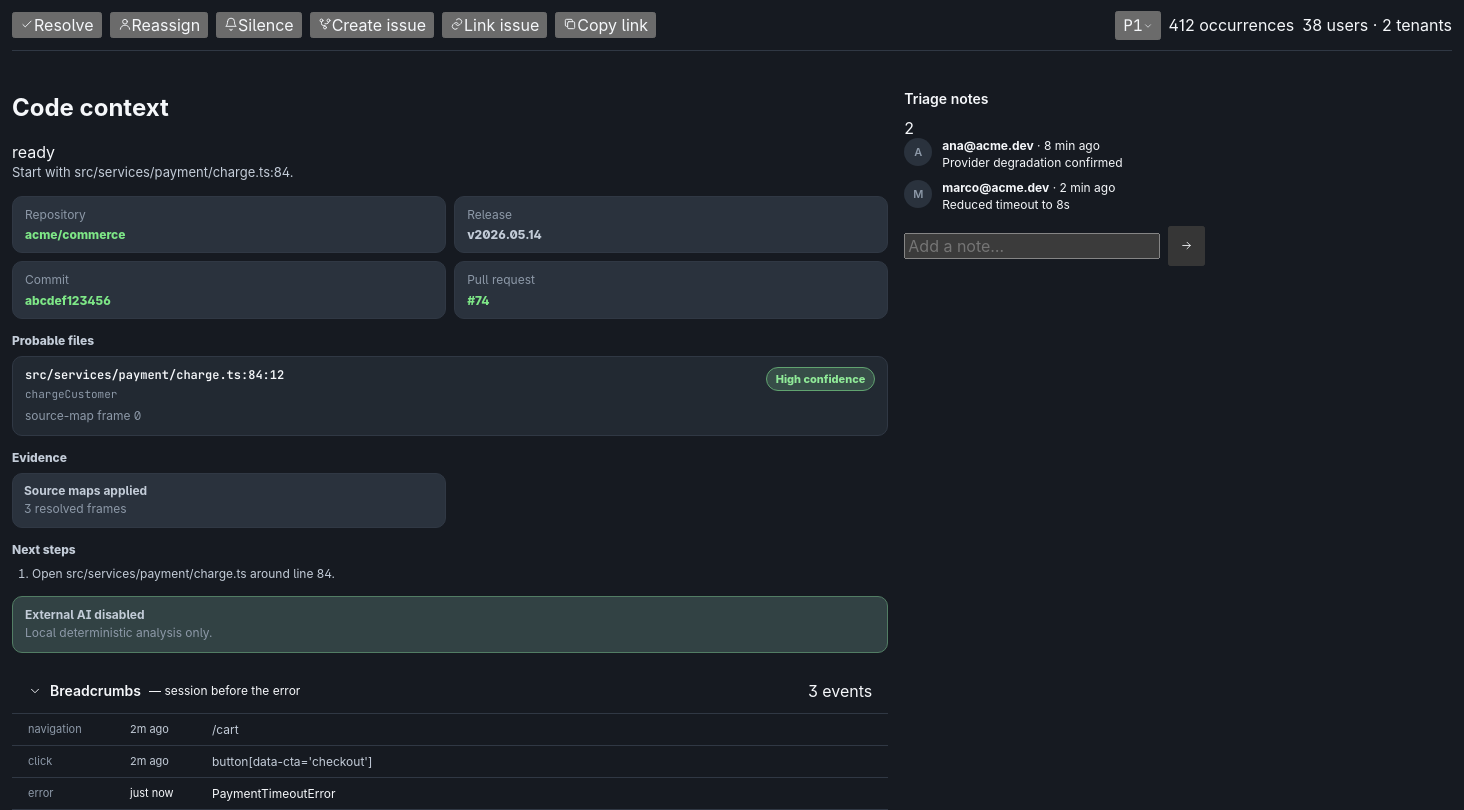
it: IncidentScreen › breadcrumbs accordion › toggles breadcrumbs open/closed on click
The width and height of the screenshot is (1464, 810).
(page scrolled)
Check: the text "/cart" is shown, box [212, 722, 239, 737]
Click the button "Breadcrumbs — session before the error 3 events".
click(96, 691)  # box [12, 669, 888, 714]
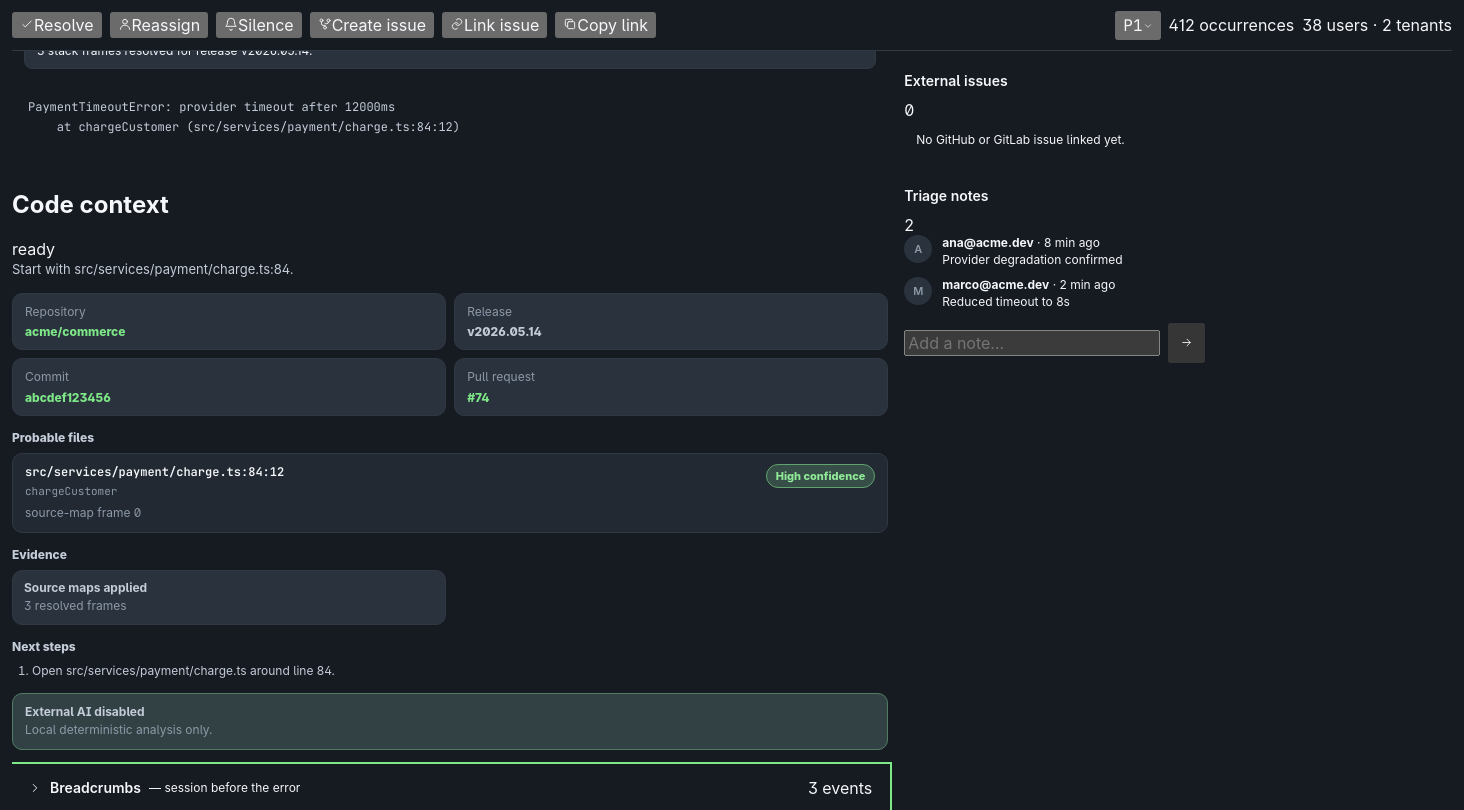
Check: the text "/cart" is gone
Click the button "Breadcrumbs — session before the error 3 events".
click(96, 788)  # box [12, 766, 888, 809]
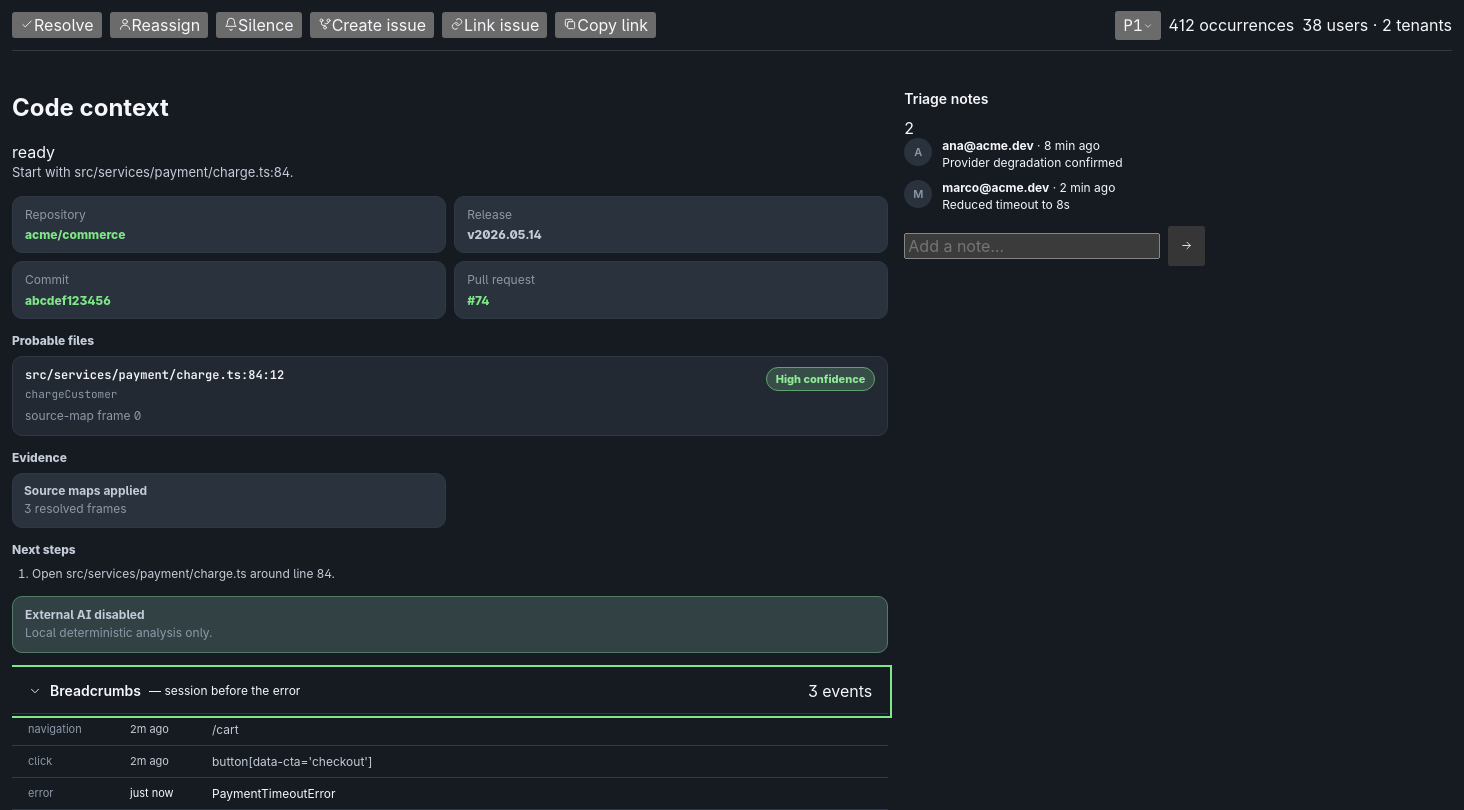
Check: the text "/cart" is shown, box [212, 722, 239, 737]
